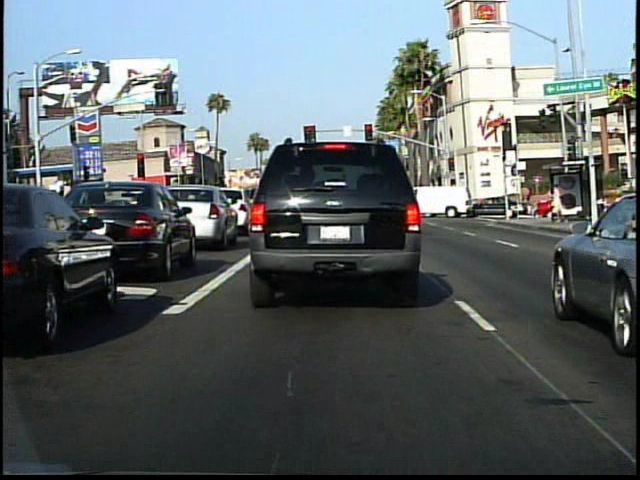person: (547, 180, 568, 229)
